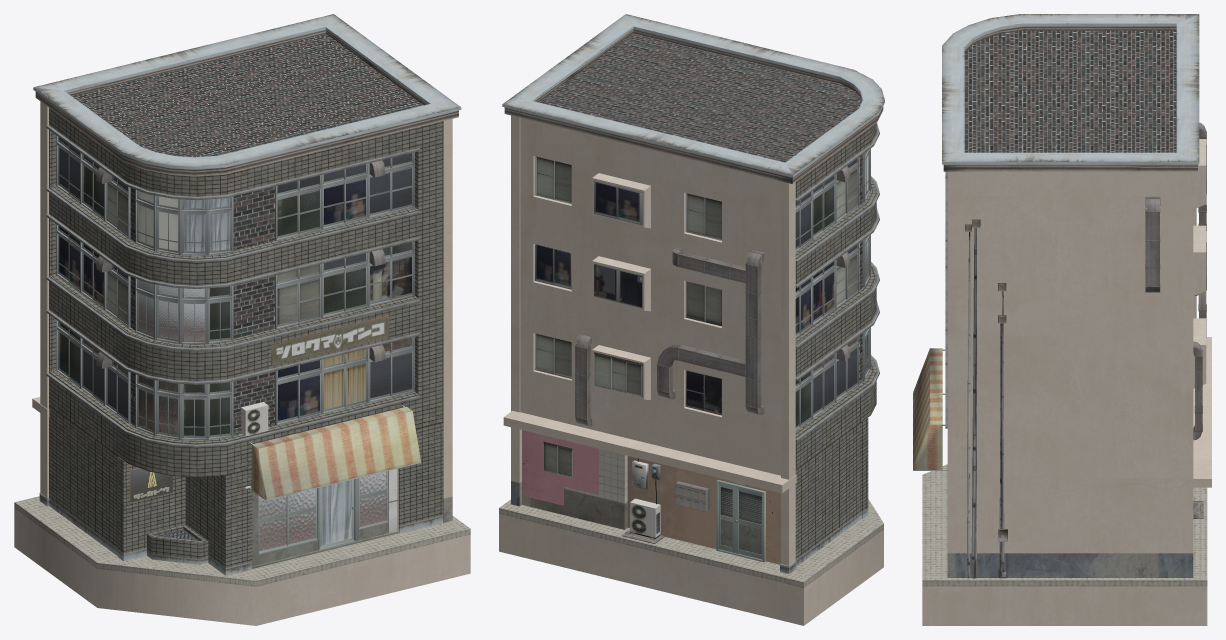
The model's file is large_building_corner_2.fbx.
The picture shows the model from 3 angles, left to right: view 1: azimuth 30°, elevation 25°; view 2: azimuth 150°, elevation 25°; view 3: azimuth 270°, elevation 25°; orthographic projection. The views are drawn at different scales.
Visible parts, largest first — view 1: large_building_corner_2; view 2: large_building_corner_2; view 3: large_building_corner_2.
Boxes of the visible parts, left/top/right/bottom form: large_building_corner_2: left=14, top=14, right=470, bottom=625; large_building_corner_2: left=499, top=14, right=884, bottom=625; large_building_corner_2: left=913, top=14, right=1211, bottom=625.
Size of the model in its own units: 1169 by 929 by 1592.
Materials: 10 (10 with a texture image).
